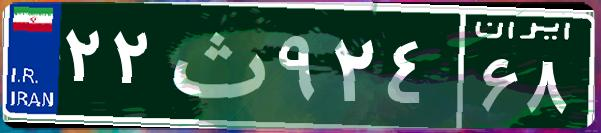2: (330, 28, 385, 110), (57, 26, 110, 107), (110, 28, 158, 105)
4: (385, 28, 445, 110)
6: (475, 38, 525, 113)
8: (525, 38, 570, 115)
9: (273, 28, 330, 110)
ث: (158, 15, 273, 115)
